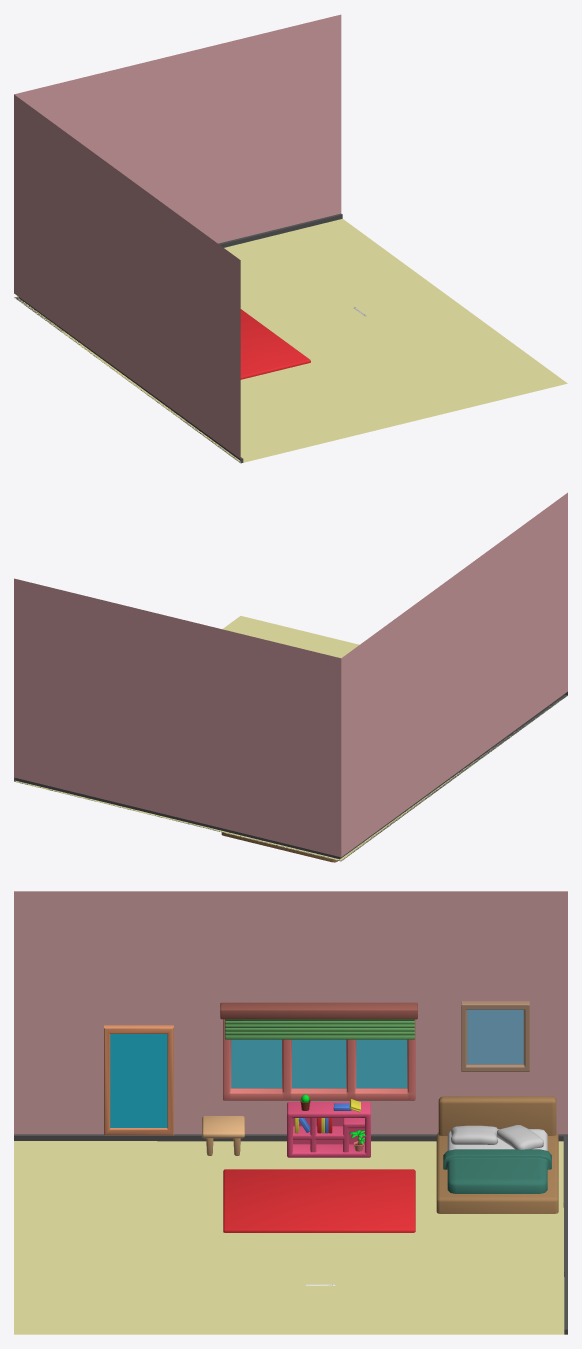
Rendered from enviroment_room.fbx.
3 renders of one model, top to bottom at view 1: azimuth 30°, elevation 25°; view 2: azimuth 150°, elevation 25°; view 3: azimuth 270°, elevation 25°, orthographic. The views are drawn at different scales.
Visible parts, largest first — view 1: Cube.006, Cube.003; view 2: Cube.006; view 3: Cube.006, Cube.008, Cube.014, Cube.003, mirror, Cube.002, Cube.010, table, Cube.007.
Boxes of the visible parts, x1,y1,x2,y2 form: Cube.006: (14,14,567,463); Cube.003: (240,309,310,379); Cube.006: (14,492,567,861); Cube.006: (14,891,567,1334); Cube.008: (220,1002,417,1100); Cube.014: (436,1096,558,1213); Cube.003: (223,1169,415,1232); mirror: (104,1025,173,1135); Cube.002: (461,1001,529,1071); Cube.010: (287,1102,370,1157); table: (202,1116,244,1155); Cube.007: (295,1099,360,1133).
Bounding box in the file's own units: 463 × 290 × 556.
